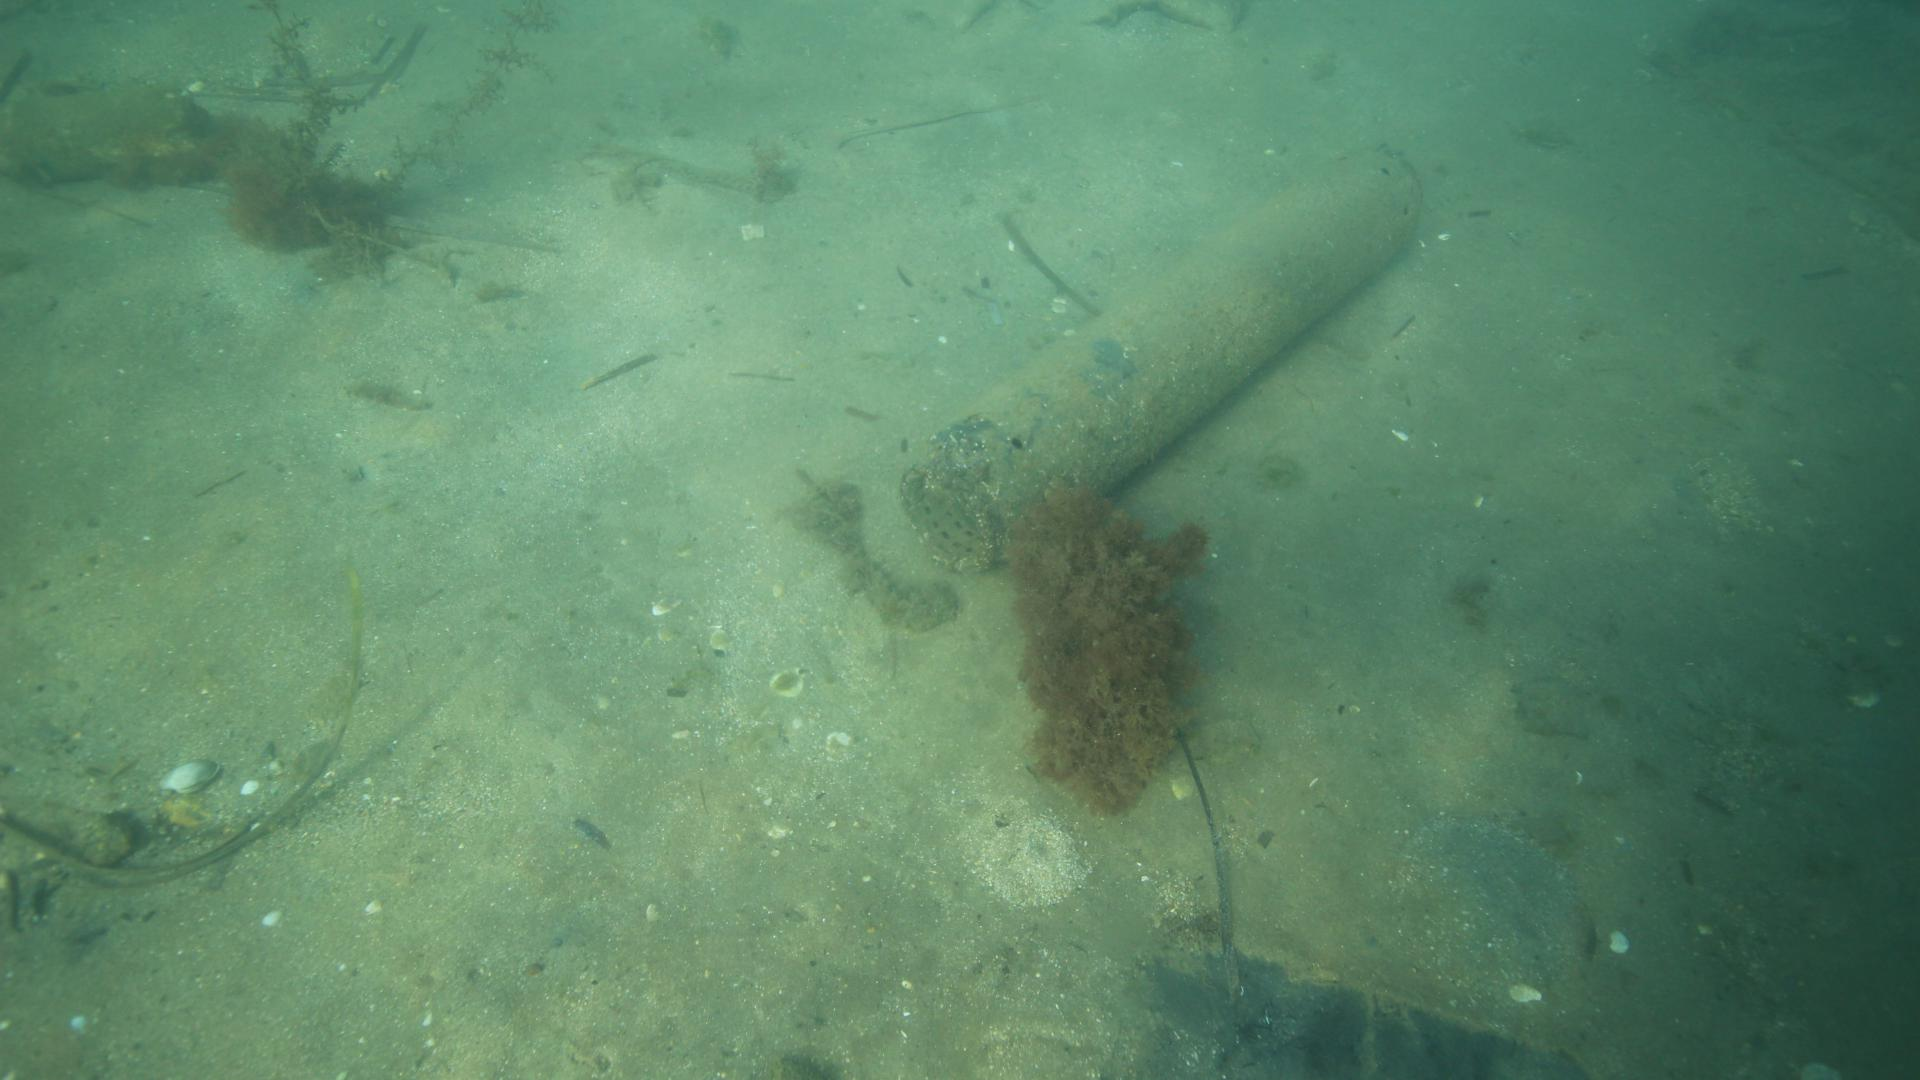eel fish trap: (893, 138, 1425, 578)
